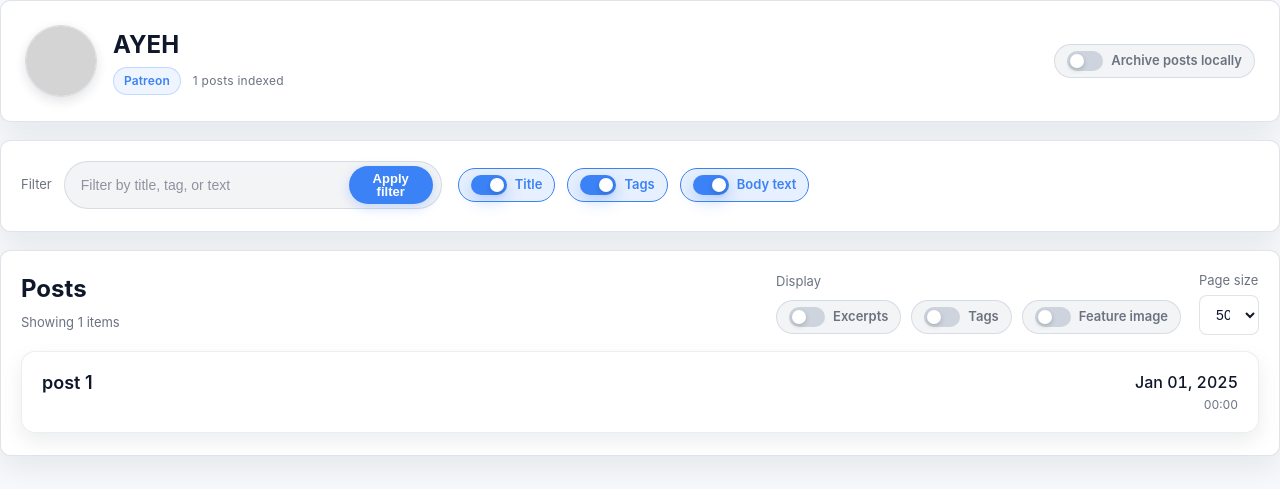
CreatorPage cache controls › persists archive toggle state and shows/hides refresh action accordingly
Expected: the text "post 1" is shown, 42,372 -> 93,392
Expected: the button "Refresh posts" is not shown
Click the checkbox labelled "Archive posts locally".
click(1155, 61)  # box 1054,44 -> 1255,78
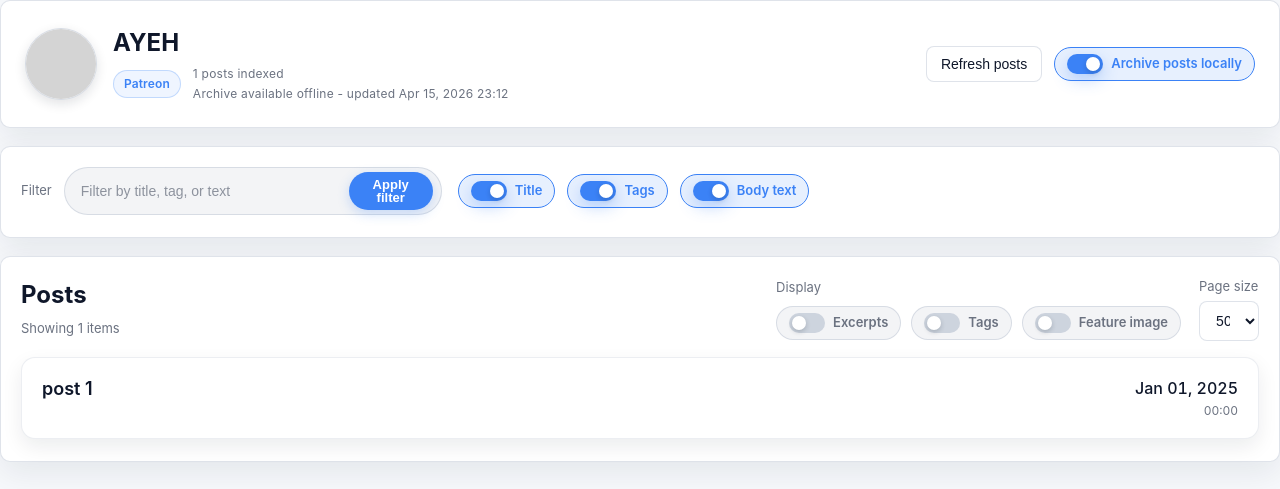
Result: the checkbox labelled "Archive posts locally" is checked
Result: the button "Refresh posts" is shown at 926,46 -> 1042,82
Click the checkbox labelled "Archive posts locally".
click(1155, 64)  # box 1054,47 -> 1255,81
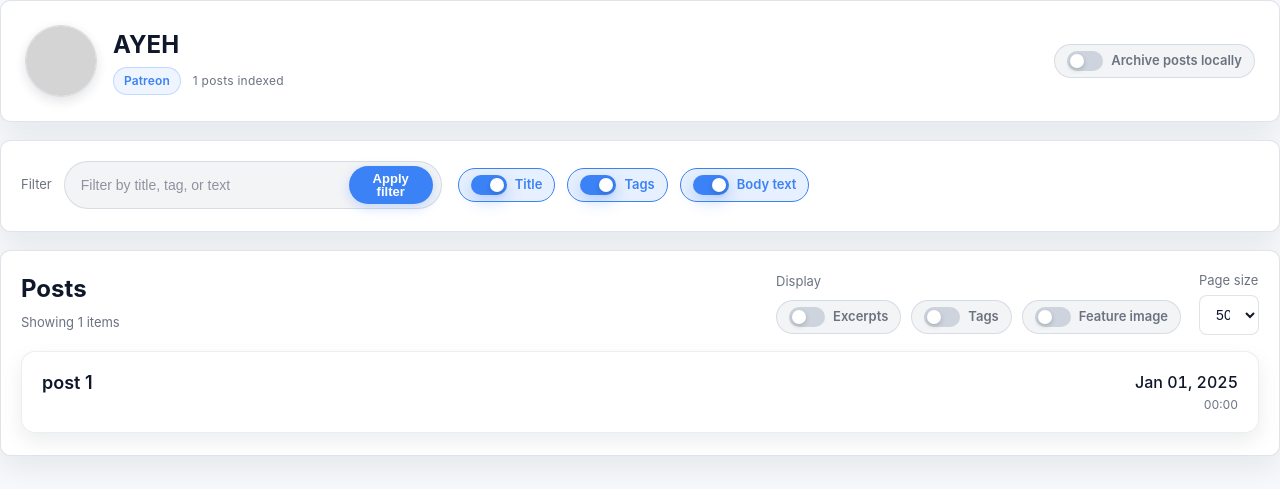
Result: the checkbox labelled "Archive posts locally" is not checked at 1054,44 -> 1255,78
Result: the button "Refresh posts" is gone
